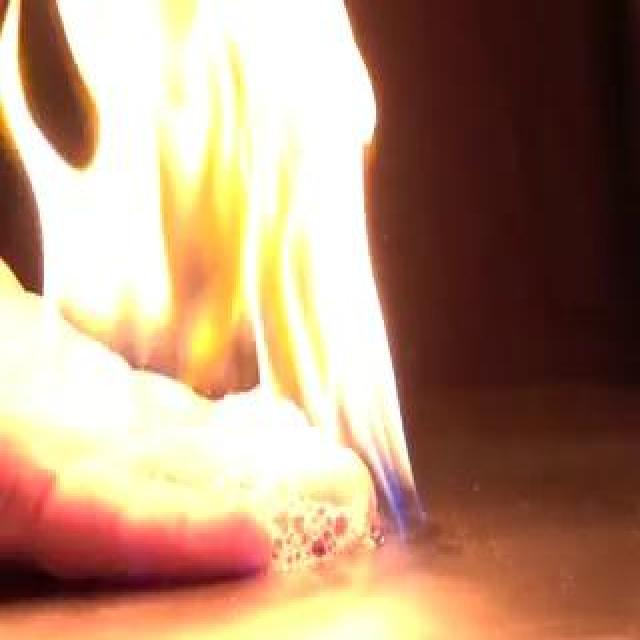Fire: (37, 3, 415, 536)
